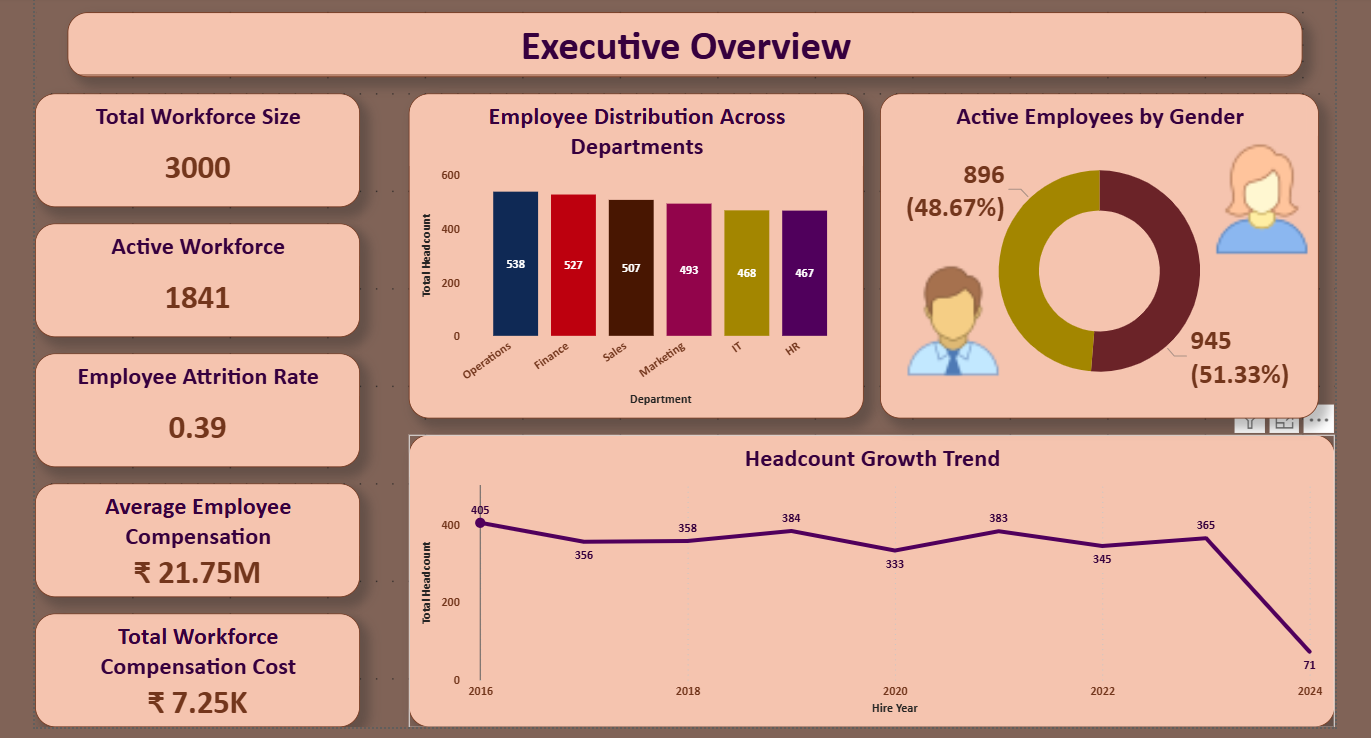

This screenshot's page, from the dashboard's own definition file:
{"tool":"powerbi","page":{"name":"Executive Snapshot","canvas":[1280,720],"ordinal":0},"visuals":[{"type":"card","title":"Total Workforce Size","fields":{"Values":["HR Data.Total Headcount"]},"box":[0,96,320,112],"z":0},{"type":"donutChart","fields":{"Category":["HR Data.Gender"],"Y":["HR Data.Active Employees"]},"box":[832,96,432,320],"z":0,"group":"g2"},{"type":"image","box":[848,256,112,128],"z":0,"group":"g1"},{"type":"group","id":"g1","title":"Group 2","box":[848,144,416,240],"z":1000,"group":"g2"},{"type":"image","box":[1152,144,112,112],"z":1000,"group":"g1"},{"type":"card","title":"Active Workforce","fields":{"Values":["HR Data.Active Employees"]},"box":[0,224,320,112],"z":1000},{"type":"card","title":"Employee Attrition Rate","fields":{"Values":["HR Data.Attrition Rate"]},"box":[0,352,320,112],"z":2000},{"type":"card","title":"Total Workforce Compensation Cost","fields":{"Values":["HR Data.Average Salary"]},"box":[0,608,320,112],"z":3000},{"type":"card","title":"Average Employee Compensation","fields":{"Values":["HR Data.Total Salary Cost"]},"box":[0,480,320,112],"z":4000},{"type":"textbox","title":"Executive Overview","box":[32,16,1216,64],"z":5000},{"type":"columnChart","title":"Employee Distribution Across Departments","fields":{"Category":["HR Data.Department"],"Y":["HR Data.Total Headcount"],"Series":["HR Data.Department"]},"box":[368,96,448,320],"z":6000},{"type":"lineChart","title":"Headcount Growth Trend","fields":{"Y":["HR Data.Total Headcount"],"Category":["HR Data.Hire Year"]},"box":[368,432,912,288],"z":7000},{"type":"group","id":"g2","title":"Group 1","box":[832,96,432,320],"z":8007}]}

Visuals, with their boxes in screenshot pixels (x1, y1, x2, y2):
"Total Workforce Size" card: 32 90 356 203
donutChart - HR Data.Gender x HR Data.Active Employees: 874 90 1312 414
image: 891 252 1004 382
"Group 2" group: 891 139 1312 382
image: 1198 139 1312 252
"Active Workforce" card: 32 220 356 333
"Employee Attrition Rate" card: 32 349 356 463
"Total Workforce Compensation Cost" card: 32 608 356 722
"Average Employee Compensation" card: 32 479 356 592
"Executive Overview" textbox: 65 9 1295 74
"Employee Distribution Across Departments" columnChart: 405 90 858 414
"Headcount Growth Trend" lineChart: 405 430 1328 722
"Group 1" group: 874 90 1312 414
